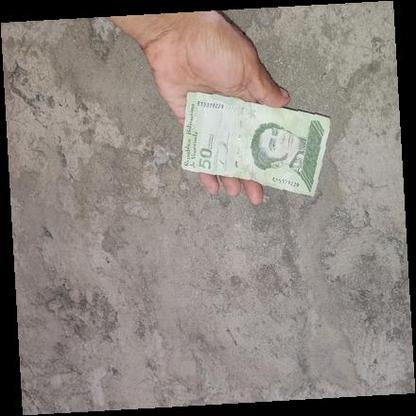fifty-front-vef: (180, 90, 331, 197)
